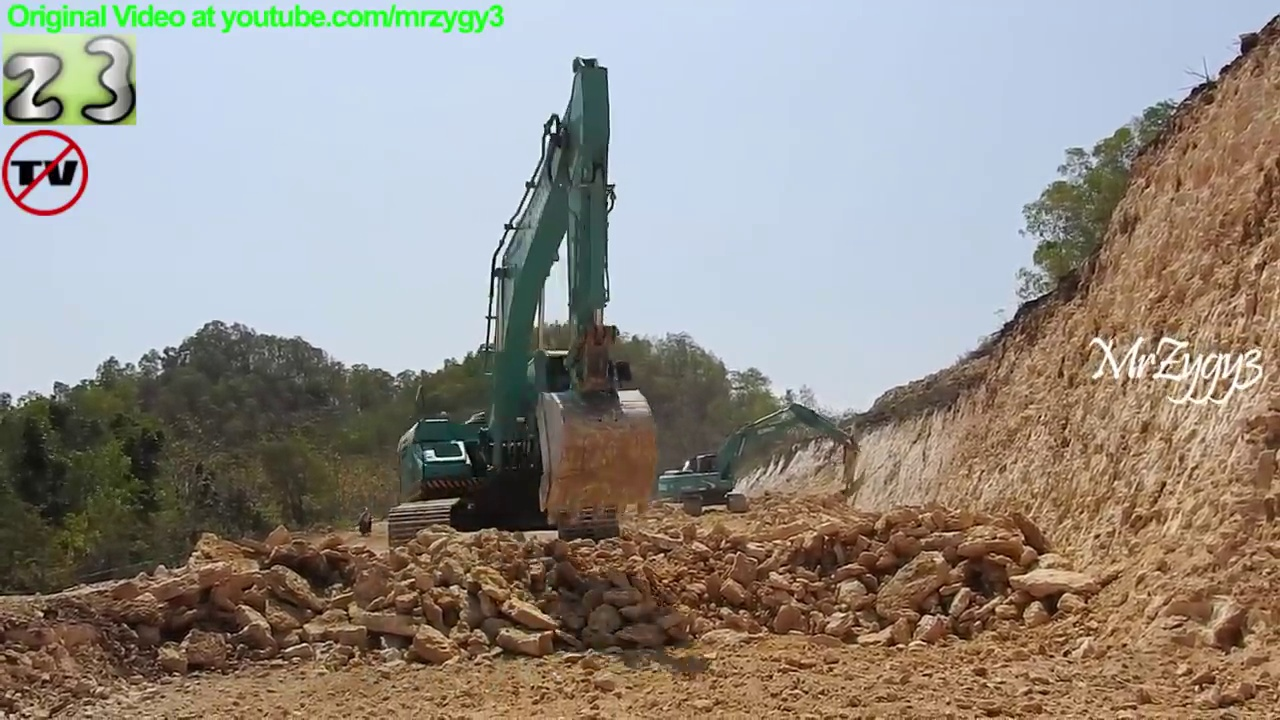excavator: (379, 50, 667, 564)
excavator breaker: (655, 402, 862, 519)
